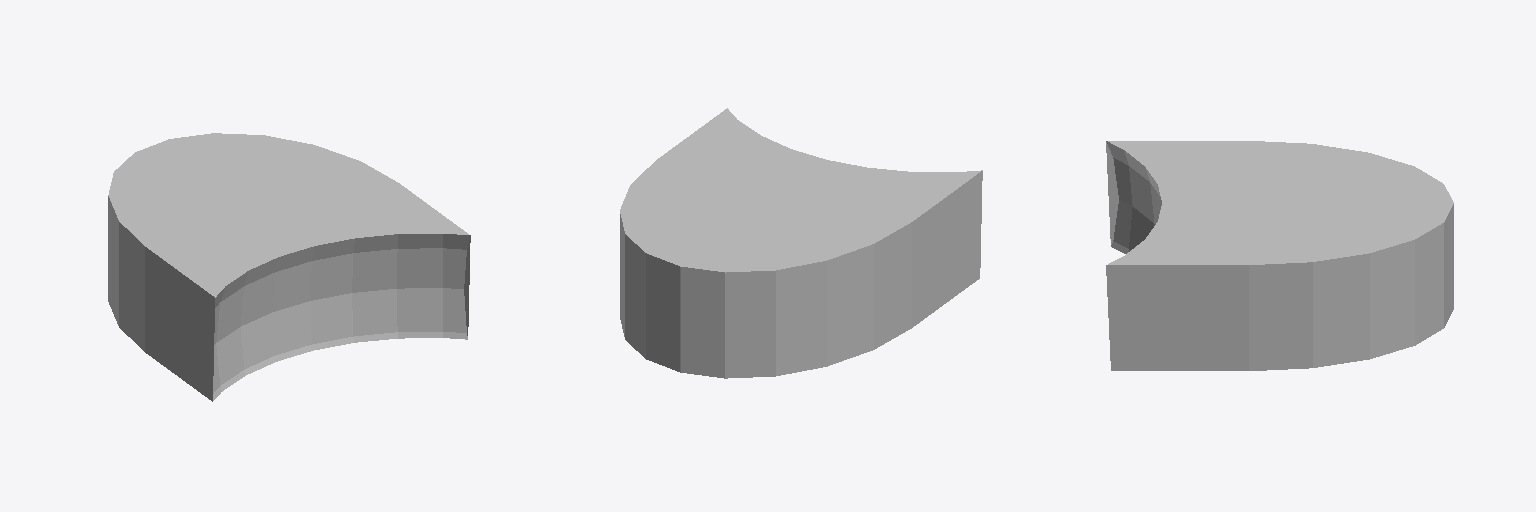
The picture shows the model from 3 angles: view 1: azimuth 30°, elevation 25°; view 2: azimuth 150°, elevation 25°; view 3: azimuth 270°, elevation 25°; orthographic projection.
Parts seen in each view (by area): view 1: and; view 2: and; view 3: and.
Part boxes in pixels (x1,y1,x2,y2): and: (108, 133, 470, 401); and: (620, 108, 982, 378); and: (1106, 141, 1453, 370).
Bounding box in the file's own units: 1.98 × 0.7873 × 2.34.